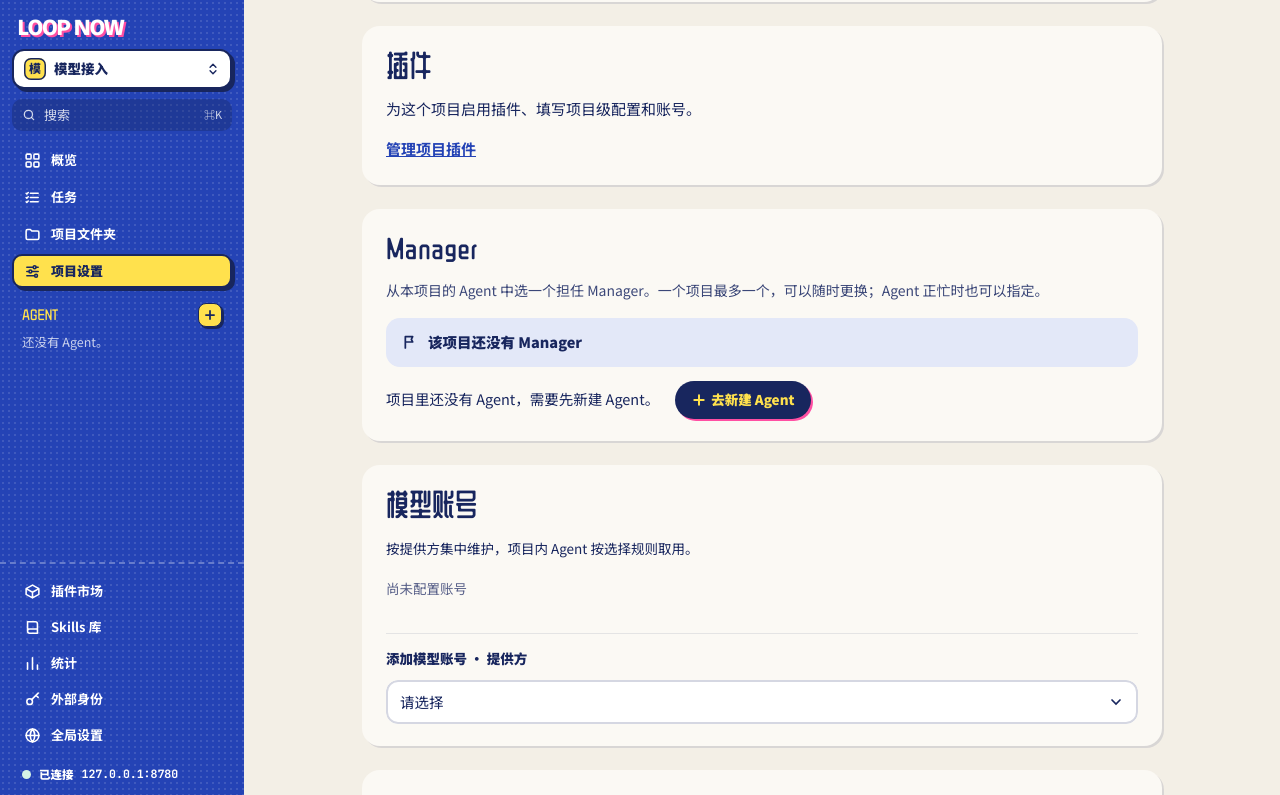
Test: 项目 Manager › 项目中没有 Agent 时，说明需要先新建 Agent
The width and height of the screenshot is (1280, 795).
(page scrolled)
Expected: the text "项目里还没有 Agent，需要先新建 Agent。" is shown, [386, 387, 659, 413]
Click the button "去新建 Agent": (743, 400) [675, 381, 811, 419]
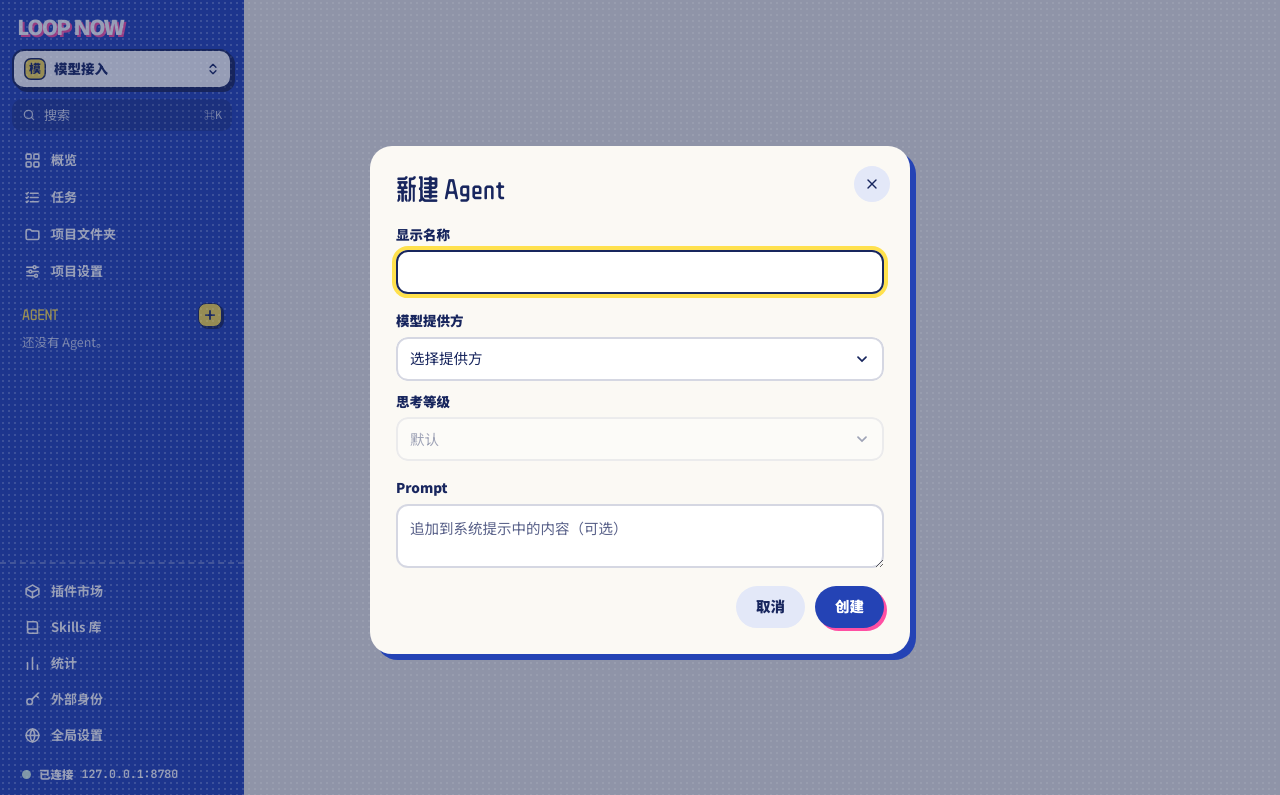
Expected: the dialog "新建 Agent" is shown, [370, 146, 910, 654]
